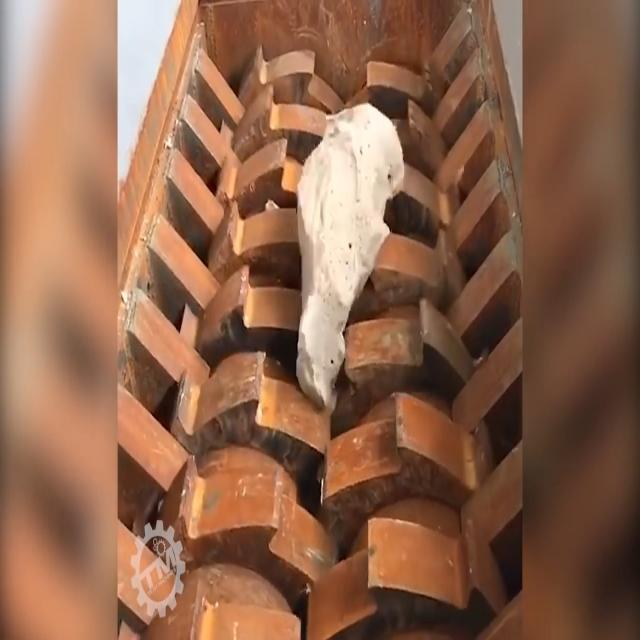Broyeur: (117, 0, 524, 640)
